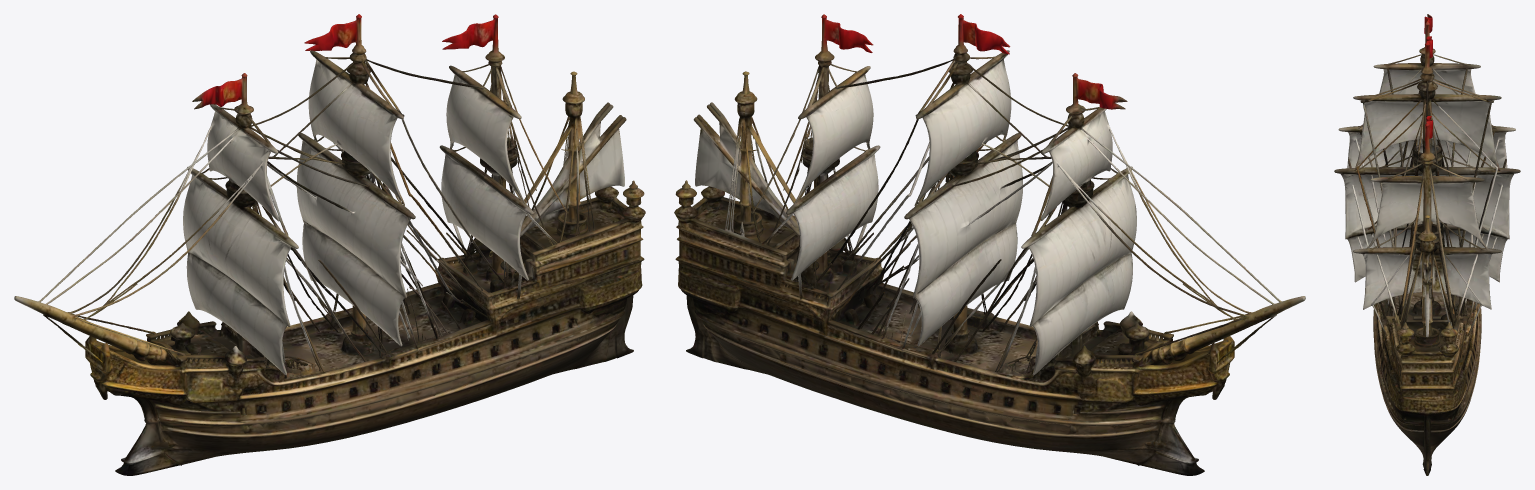
File: treasure_galleon.glb
3 views of the same model, side by side, from view 1: azimuth 30°, elevation 25°; view 2: azimuth 150°, elevation 25°; view 3: azimuth 270°, elevation 25° (orthographic). The views are drawn at different scales.
Visible parts, largest first — view 1: node_0; view 2: node_0; view 3: node_0.
Boxes of the visible parts, x1,y1,x2,y2 form: node_0: (14,14,645,475); node_0: (674,14,1305,475); node_0: (1334,14,1520,475).
Bounding box in the file's own units: 1.02 × 0.639 × 0.3295.
Materials: 1 (1 with a texture image).
